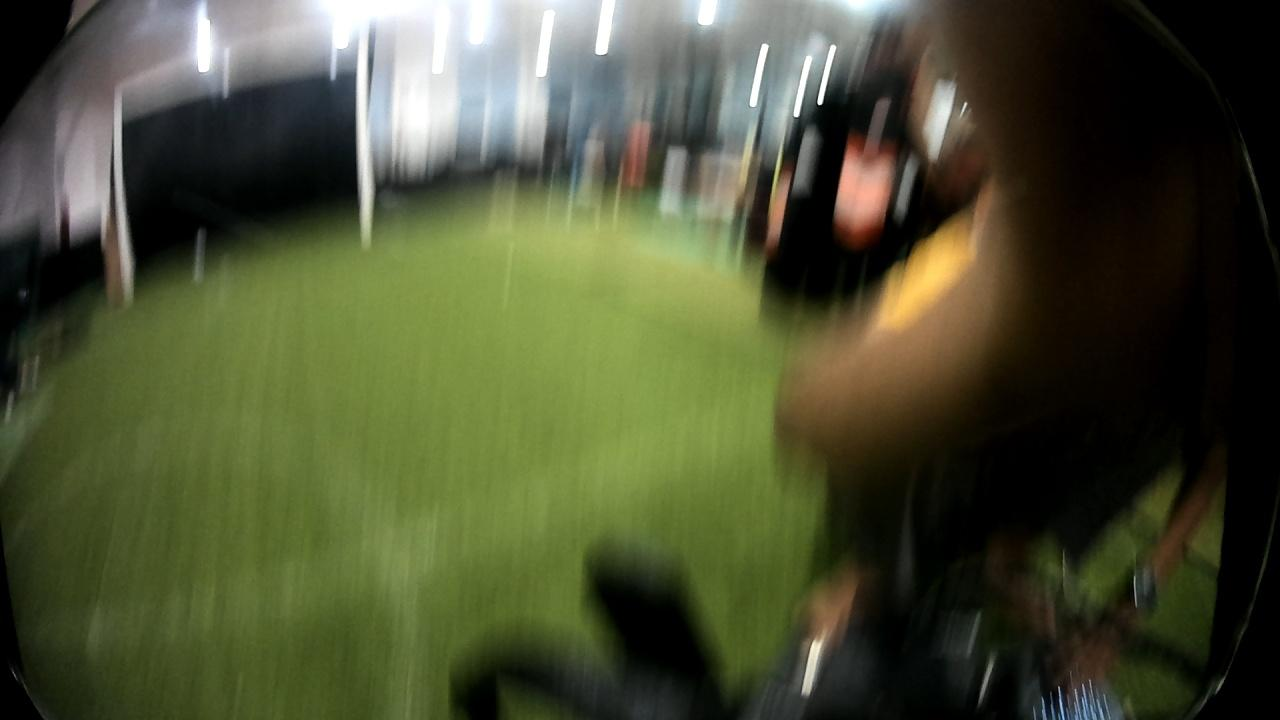ball: (189, 225, 211, 284)
